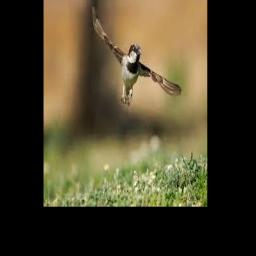Sparrow: (92, 7, 182, 105)
